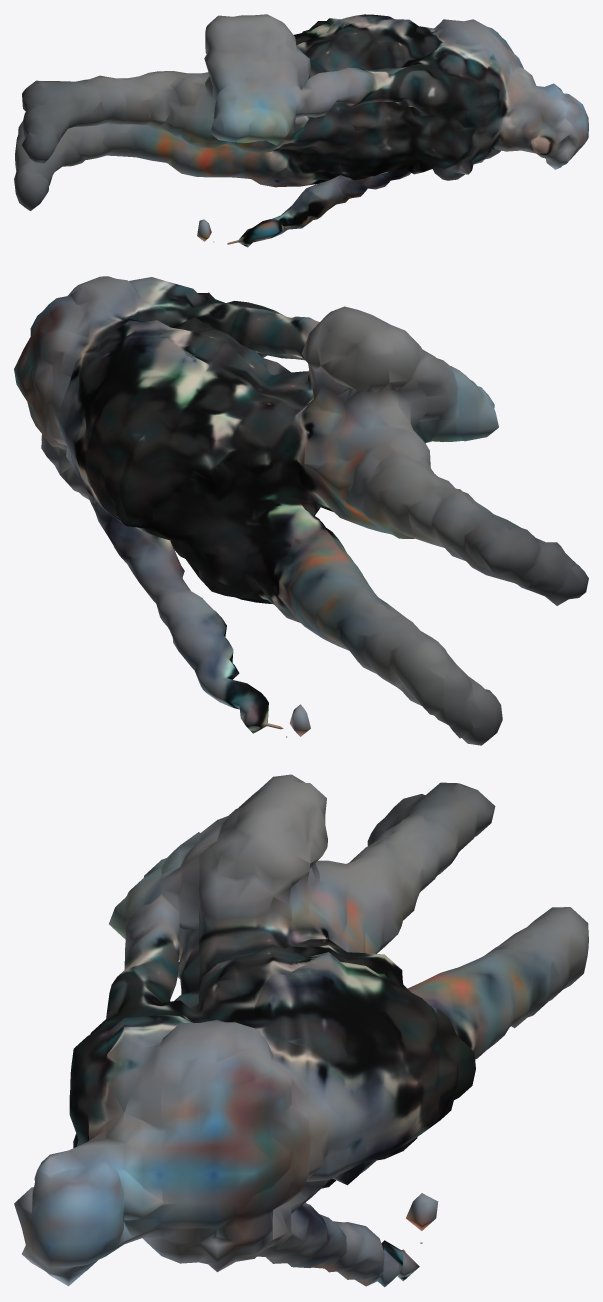
3 renders of one model, top to bottom at view 1: azimuth 30°, elevation 25°; view 2: azimuth 150°, elevation 25°; view 3: azimuth 270°, elevation 25°, orthographic. The views are drawn at different scales.
Size of the model in its own units: 0.8937 by 0.4918 by 0.5665.
Materials: 1 (1 with a texture image).
